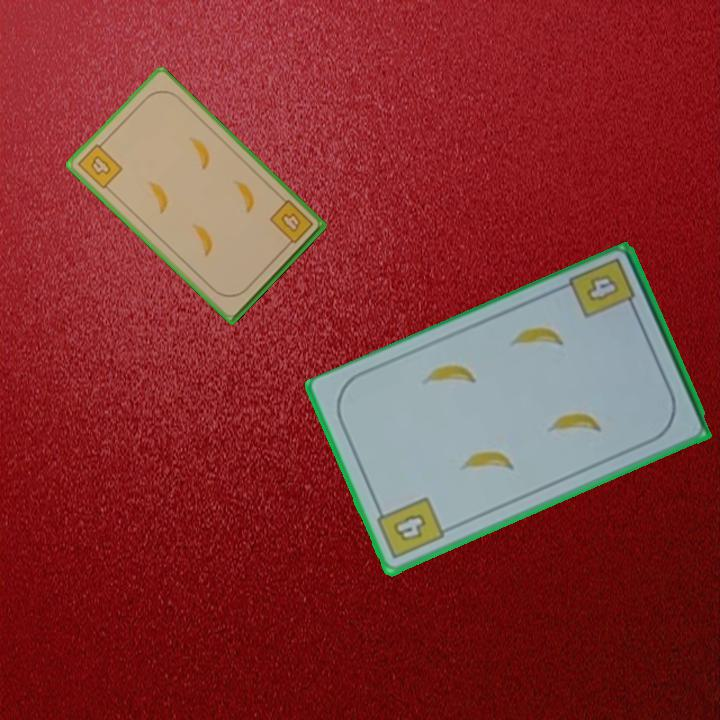4b: (372, 493, 448, 563), (566, 254, 640, 322), (74, 137, 125, 192), (266, 196, 316, 251)
